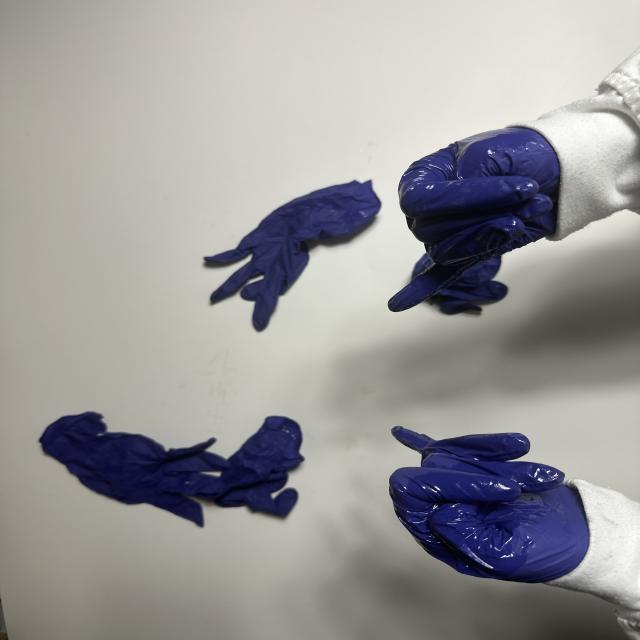gloves_contaminated: (388, 127, 561, 311), (390, 427, 589, 582)
